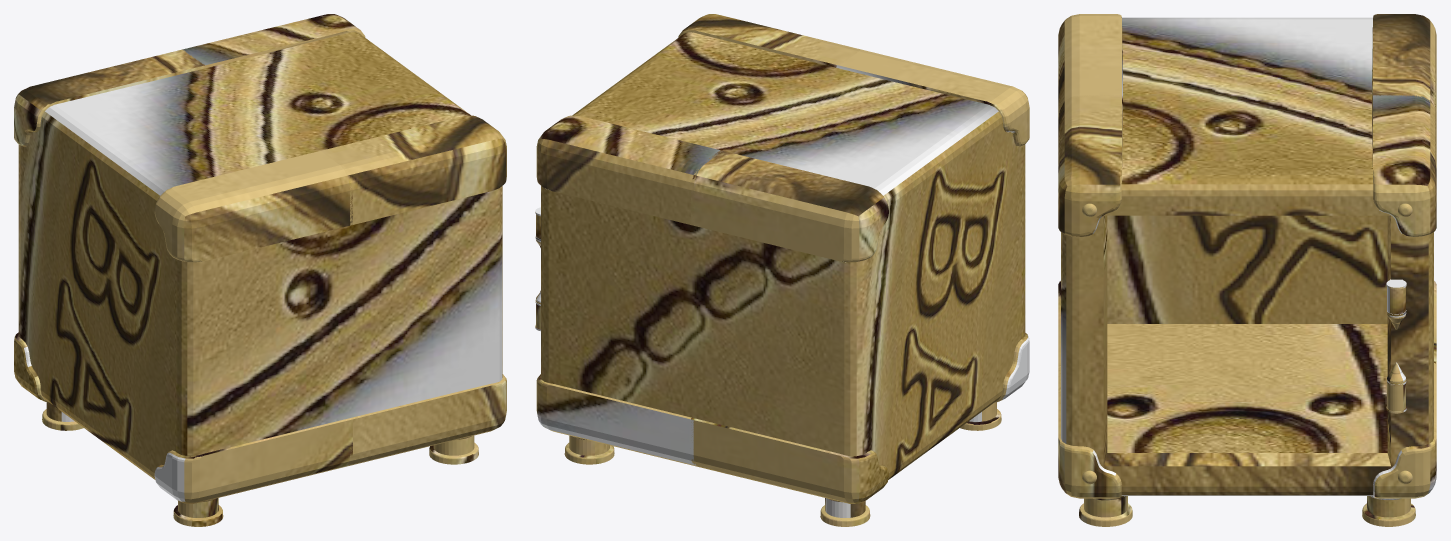
Rendered from 3CubeSafe.obj.
3 renders of one model, left to right at view 1: azimuth 30°, elevation 25°; view 2: azimuth 150°, elevation 25°; view 3: azimuth 270°, elevation 25°, orthographic. The views are drawn at different scales.
Parts seen in each view (by area): view 1: Cylinder.004; view 2: Cylinder.004; view 3: Cylinder.004.
Boxes of the visible parts, x1,y1,x2,y2 form: Cylinder.004: (14,14,506,526); Cylinder.004: (535,14,1029,526); Cylinder.004: (1058,14,1436,526).
Bounding box in the file's own units: 4.77 × 4.36 × 4.22.
